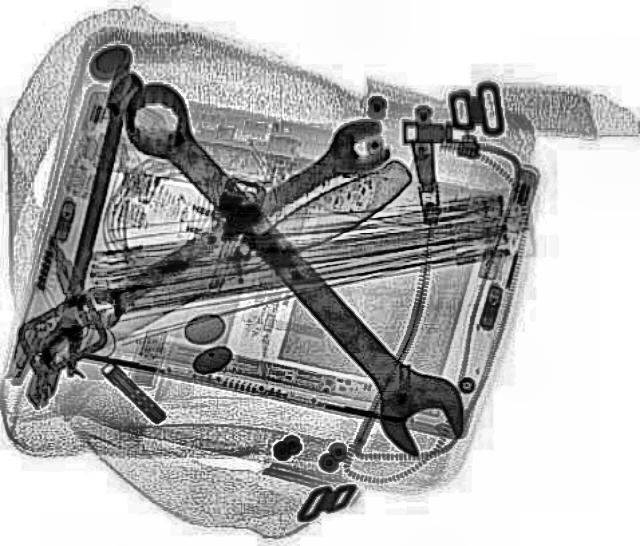Knife: (32, 151, 426, 367)
Wrench: (96, 66, 488, 462), (61, 109, 405, 336)
